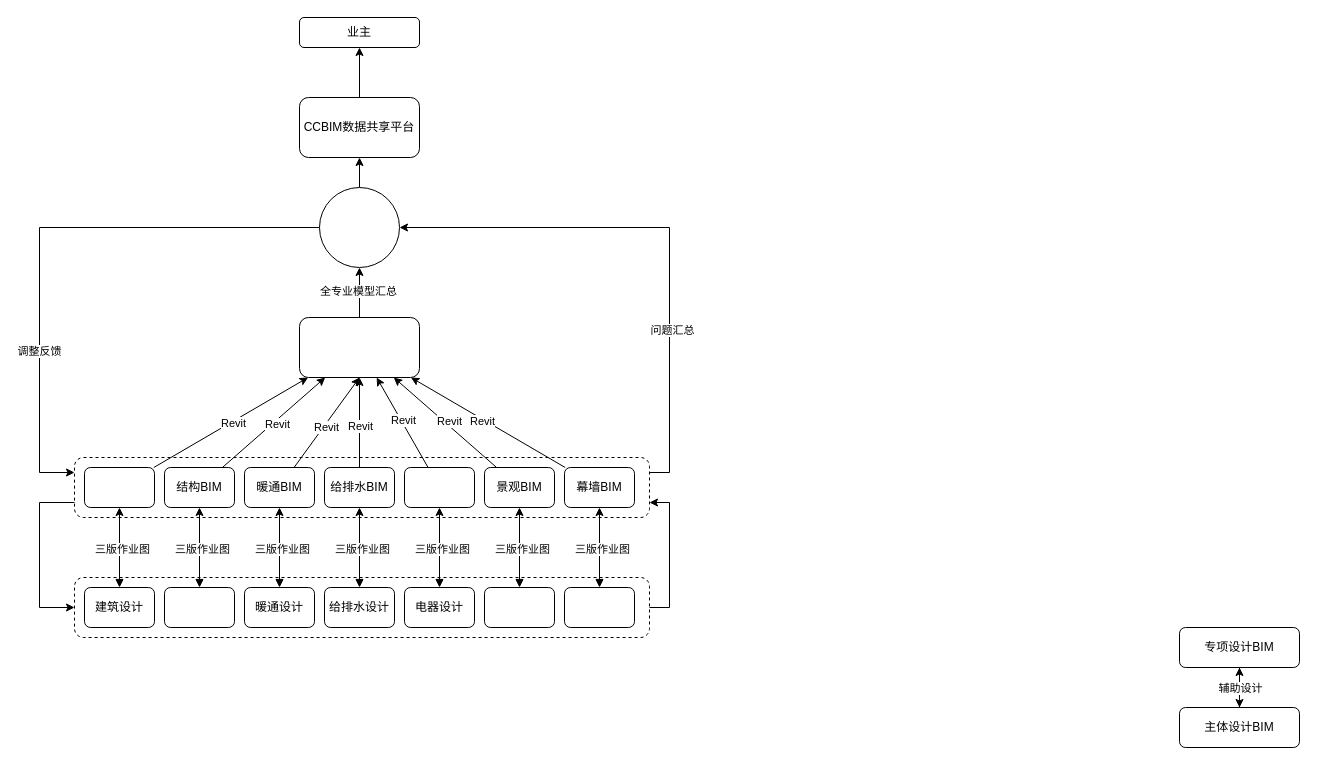
Some shapes in this 1317 by 765 pixel diagram are drawn without their labels. Each missing label, with the centre of its shape:
云设计协同平台: [359,347]
幕墙设计: [599,607]
建筑BIM: [119,487]
景观设计: [519,607]
电气BIM: [439,487]
结构设计: [199,607]
设计BIM总包: [359,227]
